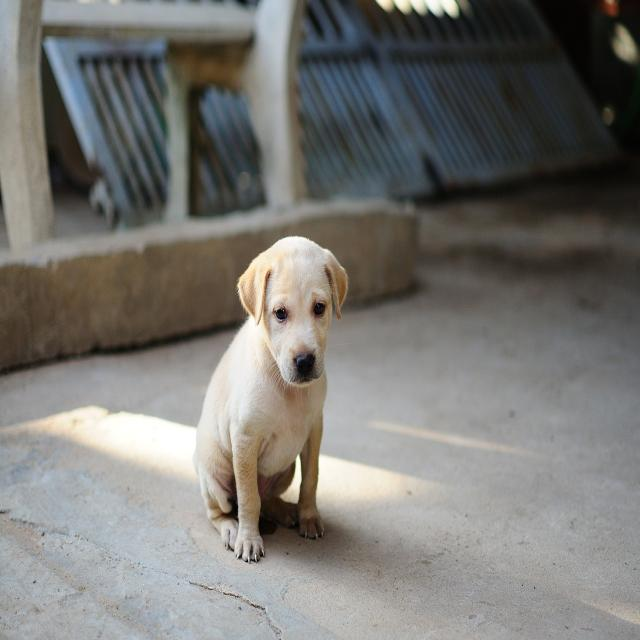dog: (192, 237, 351, 563)
